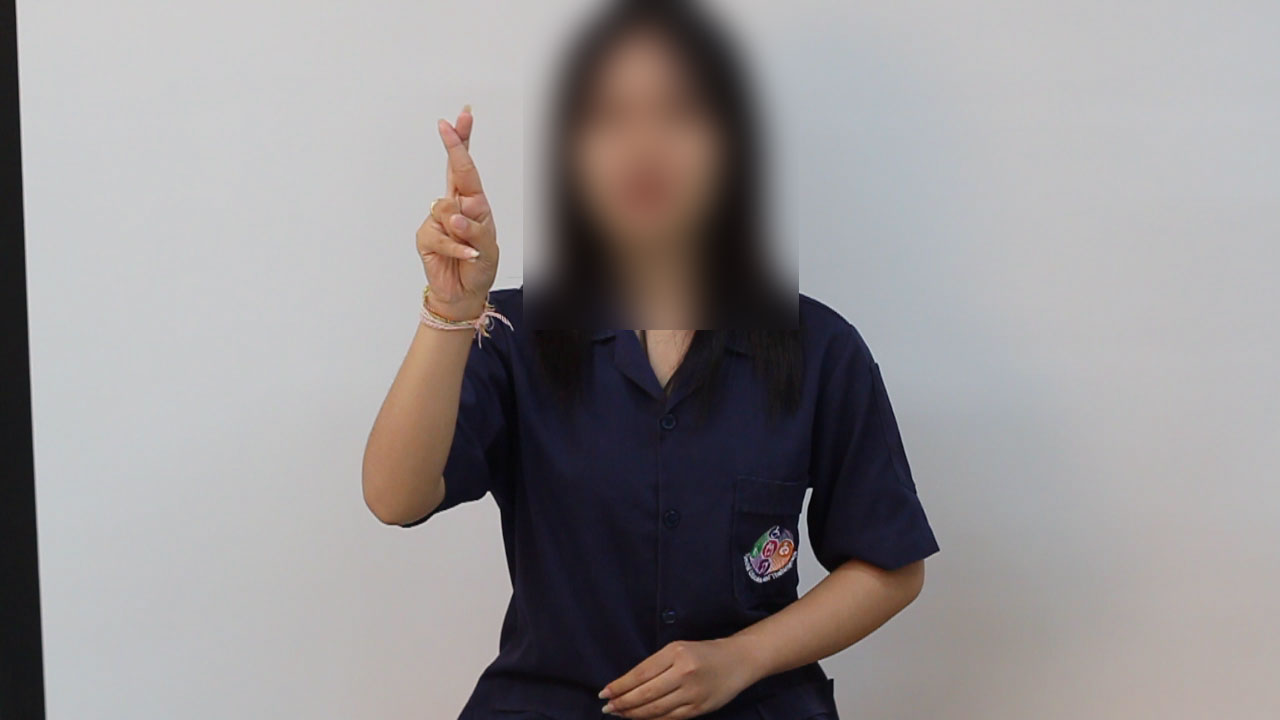rao: (392, 97, 515, 335)
